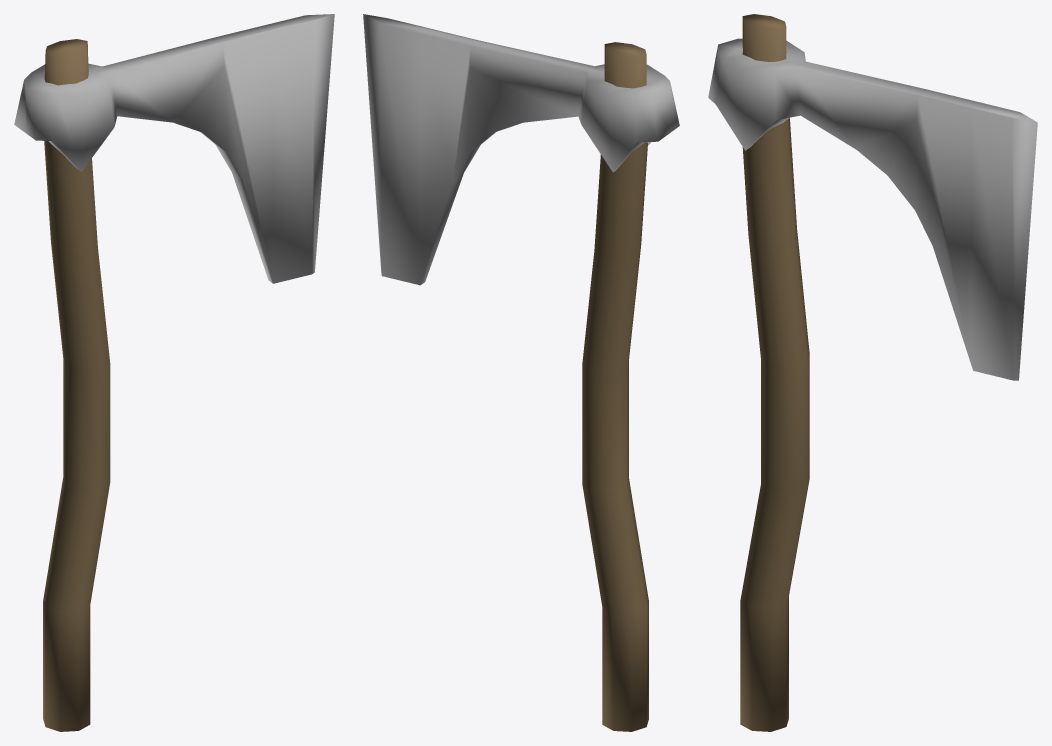
The model's file is Tier02Axe.fbx.
3 renders of one model, left to right at view 1: azimuth 30°, elevation 25°; view 2: azimuth 150°, elevation 25°; view 3: azimuth 330°, elevation 25°, orthographic. The views are drawn at different scales.
Visible parts, largest first — view 1: Tier2Axe.; view 2: Tier2Axe.; view 3: Tier2Axe..
Part boxes in pixels (x1,y1,x2,y2): Tier2Axe.: (14,14,334,731); Tier2Axe.: (363,14,679,731); Tier2Axe.: (708,14,1037,731).
Size of the model in its own units: 76.21 by 160 by 17.4.
